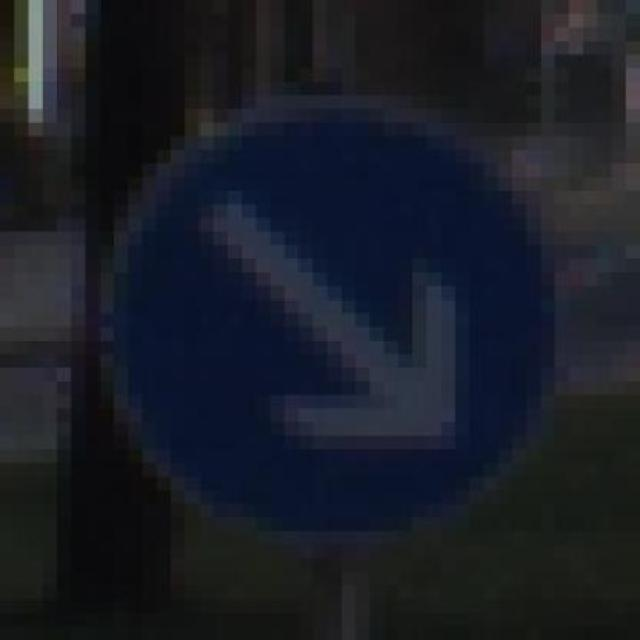Keep-Right: (99, 81, 584, 558)
